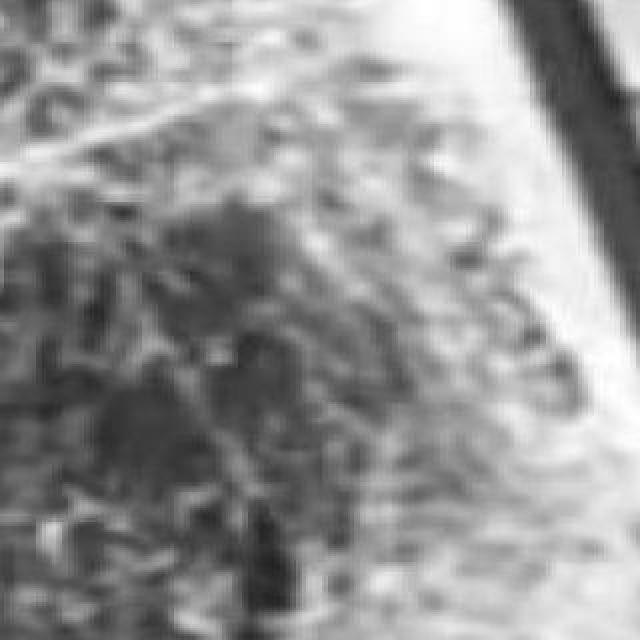Physical-damage: (8, 6, 632, 636)
